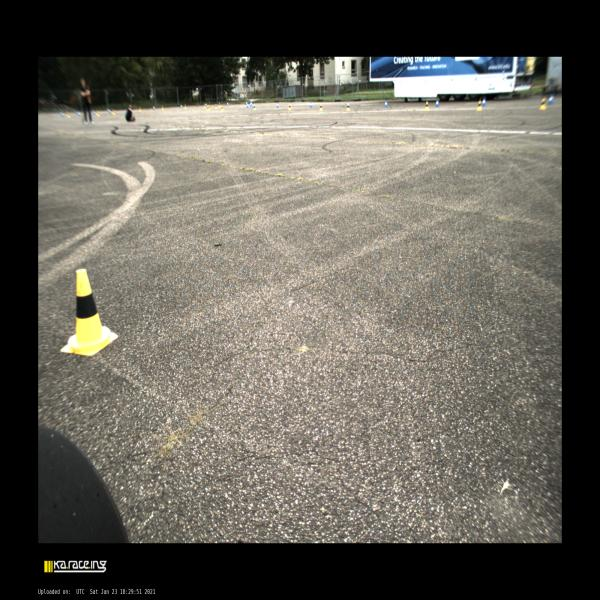blue_cone: (548, 95, 555, 104), (482, 98, 486, 107), (435, 99, 439, 107), (384, 100, 388, 108), (276, 102, 279, 108), (310, 102, 312, 108), (348, 101, 350, 107), (108, 108, 110, 113), (252, 103, 254, 108), (180, 104, 182, 108), (153, 106, 155, 109), (247, 103, 248, 107), (250, 102, 251, 106), (227, 102, 228, 105), (246, 102, 247, 104)
yellow_cone: (61, 269, 118, 356), (538, 98, 546, 110), (477, 100, 482, 110), (424, 101, 429, 111), (346, 104, 350, 111), (318, 104, 322, 111), (288, 103, 292, 110), (220, 105, 224, 111), (253, 104, 256, 110), (218, 102, 221, 108), (112, 109, 115, 115), (206, 106, 209, 111), (184, 104, 187, 109), (215, 103, 217, 109), (139, 106, 141, 112), (204, 103, 206, 108), (209, 105, 210, 110), (162, 105, 163, 110)
